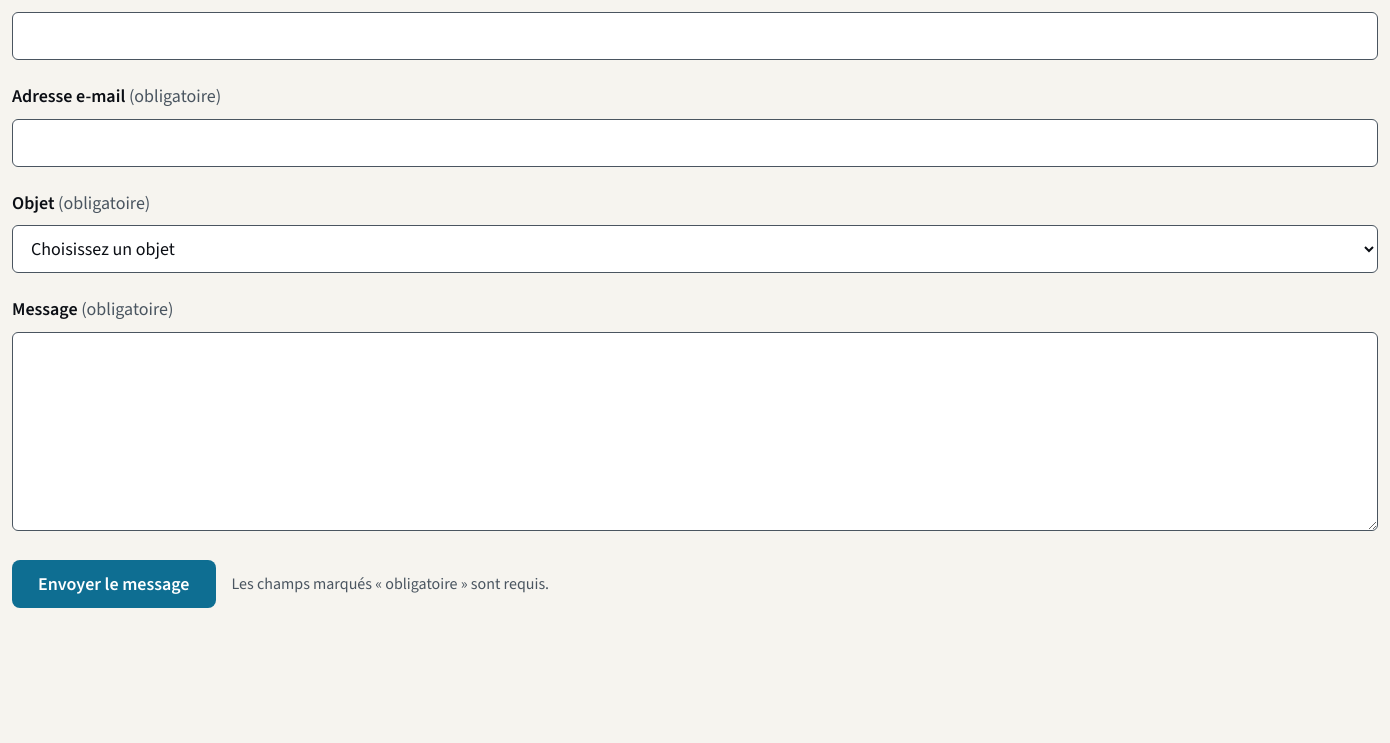
Test case: ContactForm › should report every empty required field
Step 1. Click the button "Envoyer le message" → (114, 584), box [12,560,216,608]
(page scrolled)
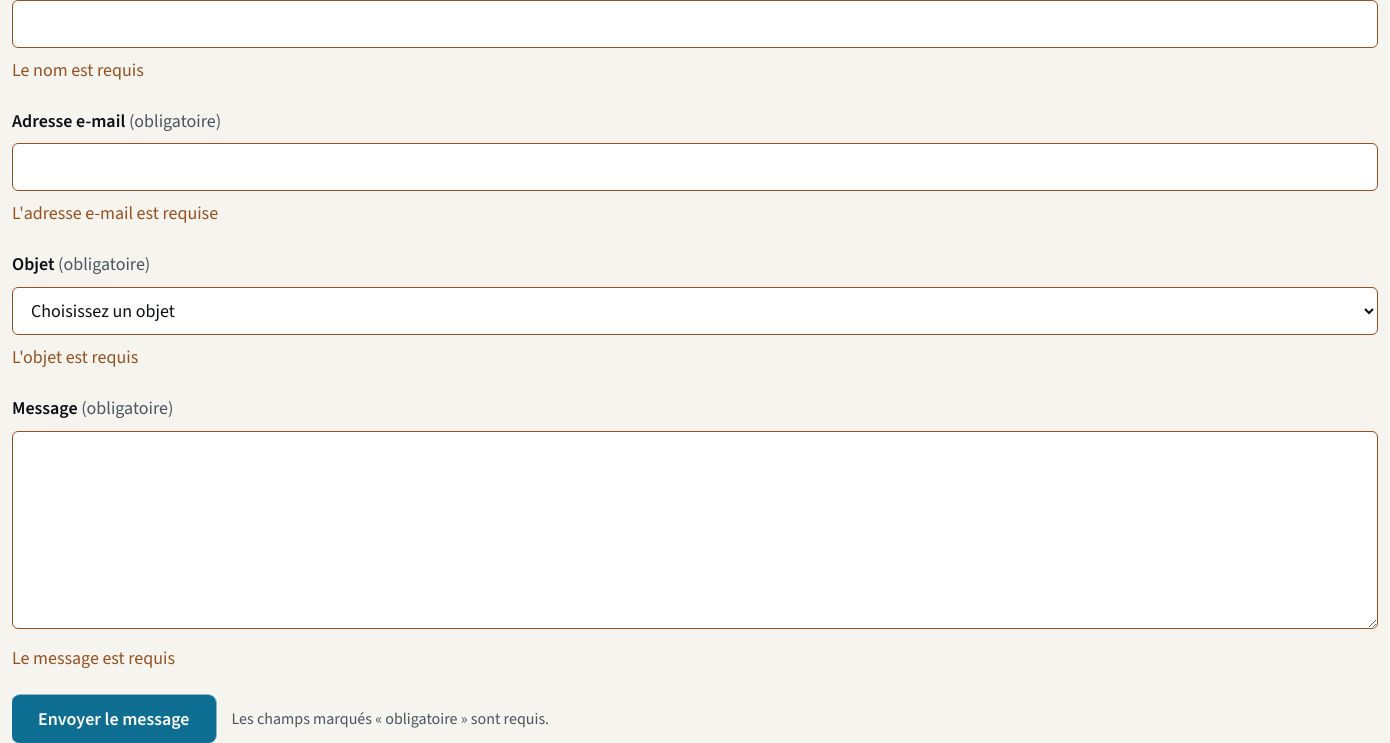
Expected: the text with id "contact-name-error" reads "Le nom est requis", [12,58,144,82]
Expected: the text "L'adresse e-mail est requise" is shown, [12,201,218,225]
Expected: the text "L'objet est requis" is shown, [12,345,138,369]
